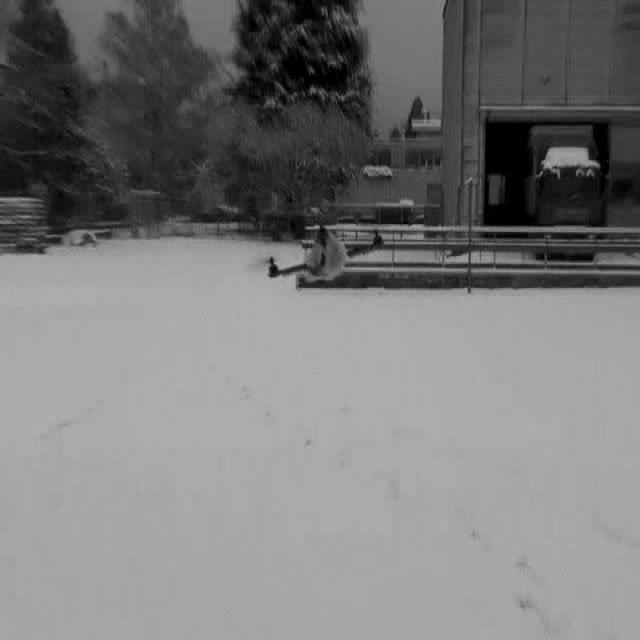drone: (242, 214, 389, 296)
